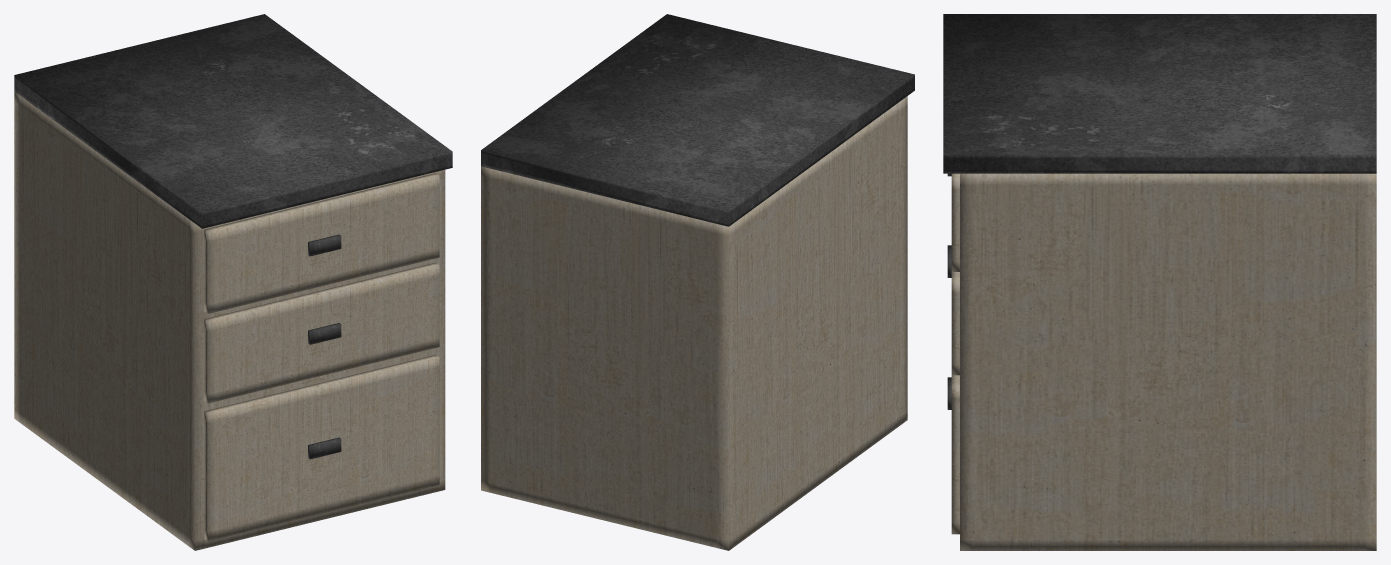
The model's file is cabinet.low.none.001.fbx.
3 renders of one model, left to right at view 1: azimuth 30°, elevation 25°; view 2: azimuth 150°, elevation 25°; view 3: azimuth 270°, elevation 25°, orthographic. The views are drawn at different scales.
Parts seen in each view (by area): view 1: Base, Cube.001, Drawer.001, Drawer.002, Drawer.003; view 2: Base, Cube.001; view 3: Base, Cube.001, Drawer.001, Drawer.002, Drawer.003.
Boxes of the visible parts, x1,y1,x2,y2 form: Base: (14, 91, 445, 550); Cube.001: (14, 14, 452, 228); Drawer.001: (204, 355, 439, 541); Drawer.002: (204, 262, 439, 403); Drawer.003: (204, 173, 439, 313); Base: (481, 96, 907, 550); Cube.001: (481, 14, 914, 226); Base: (960, 173, 1376, 550); Cube.001: (943, 14, 1376, 173); Drawer.001: (951, 375, 959, 534); Drawer.002: (951, 272, 959, 375); Drawer.003: (951, 173, 959, 271).
Size of the model in its own units: 80 by 105 by 104.
